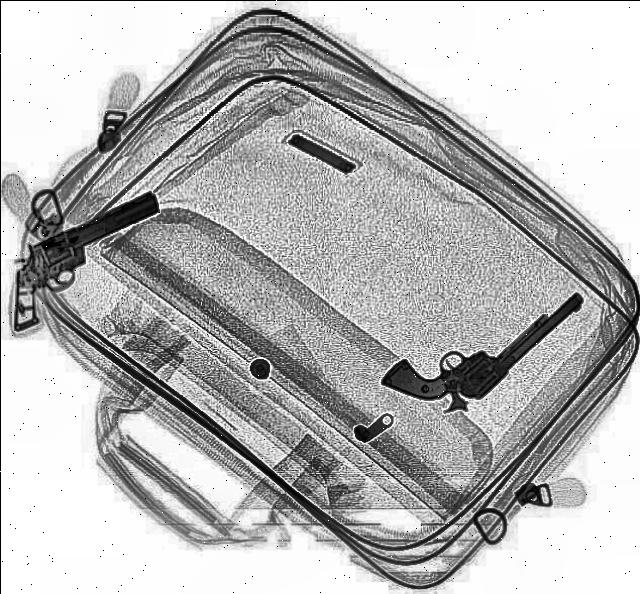Gun: (374, 247, 584, 431), (0, 189, 180, 305)
